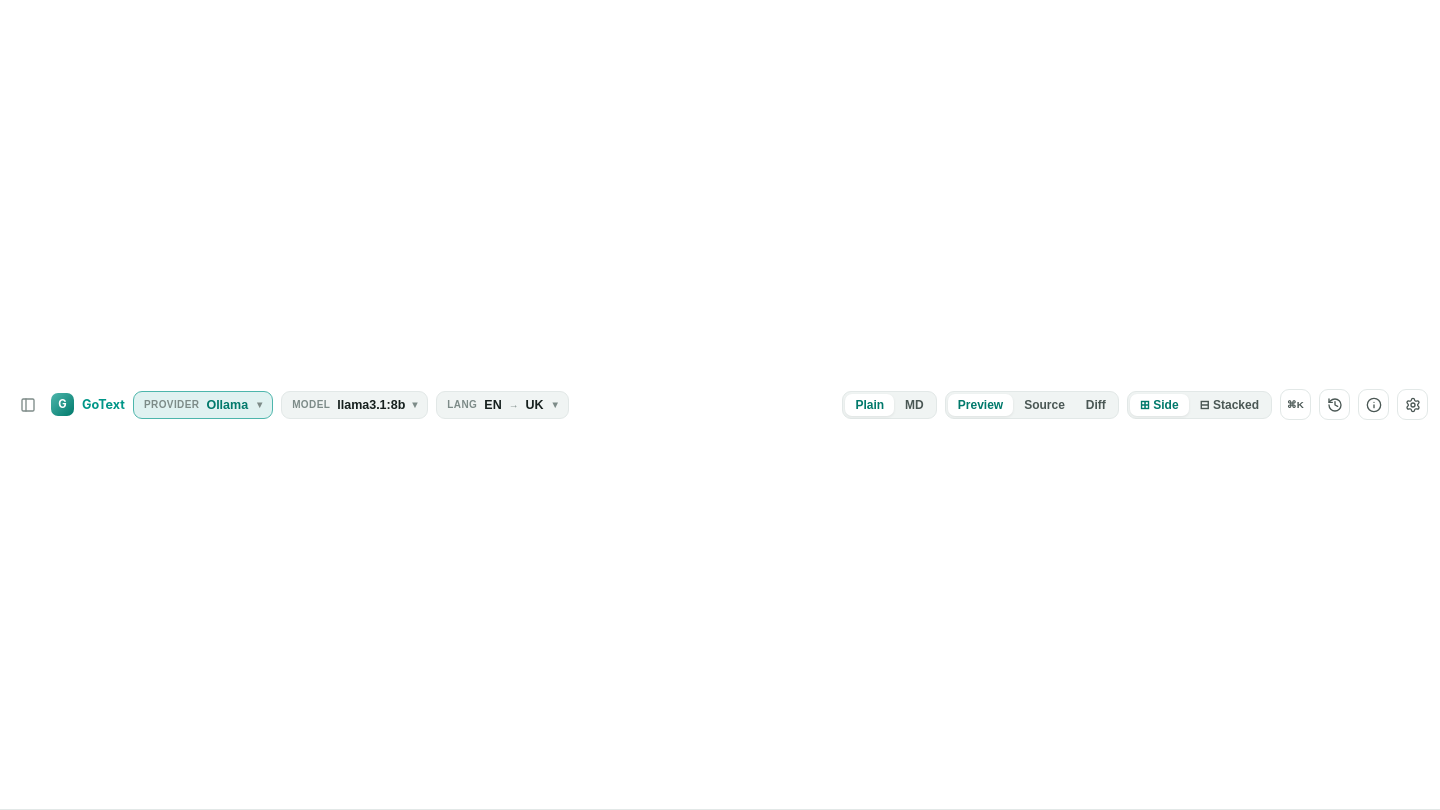
Test: AppBar chrome — combined language pill › renders exactly one language pill that opens a popover with both selects
The width and height of the screenshot is (1440, 810).
Click the button with aria-label "languages": coordinates (502, 404) [436,390,569,418]
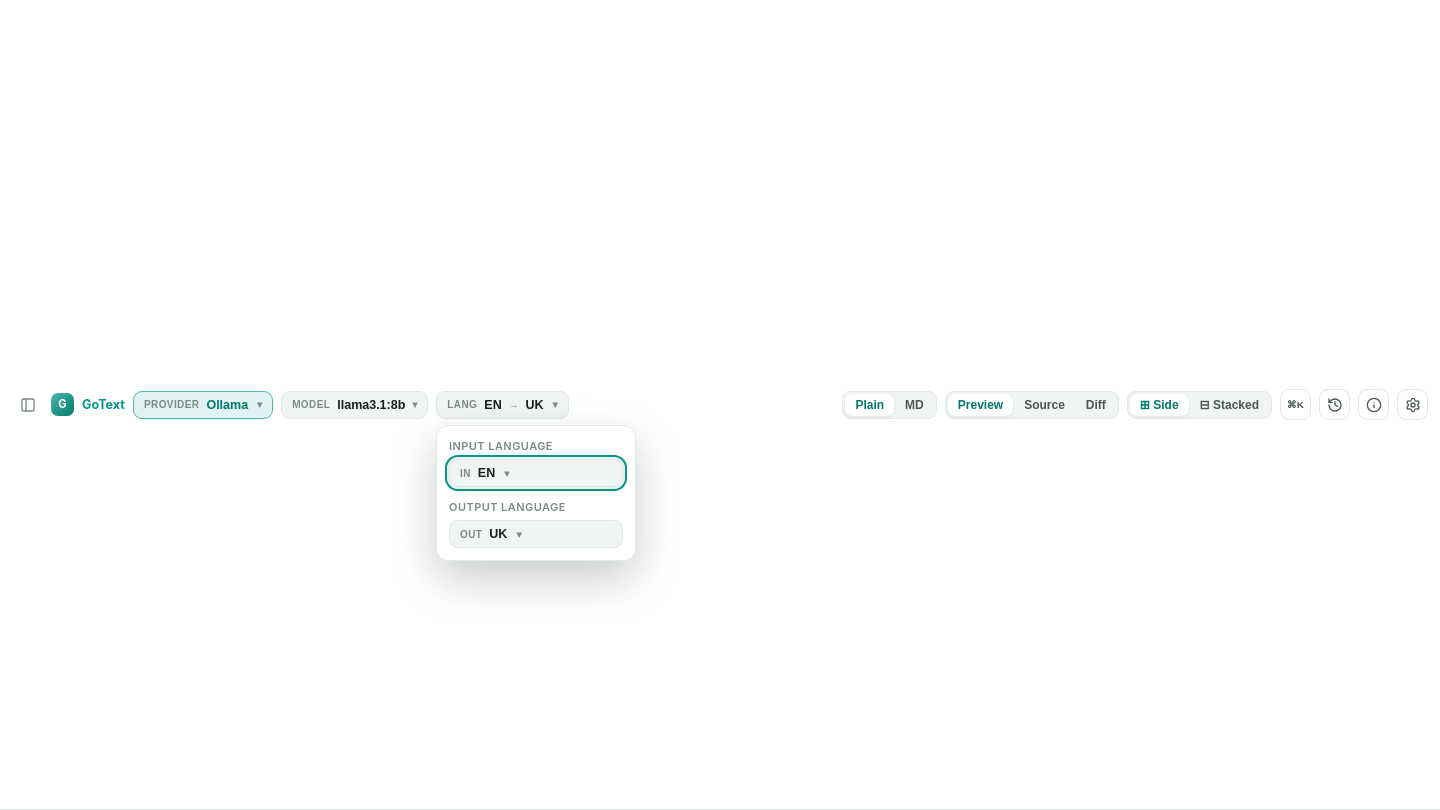
Expected: the text "Input language" is shown, [449,439,553,453]
Expected: the text "Output language" is shown, [449,500,566,514]
